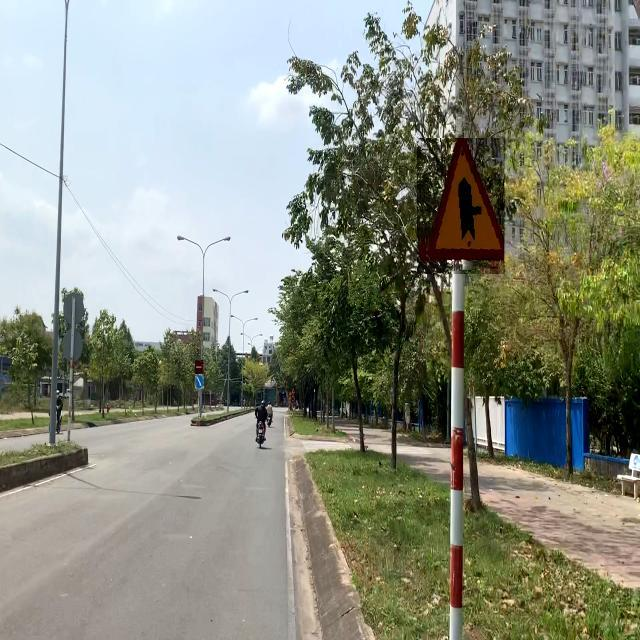P-102: (196, 360, 204, 374)
P-127: (291, 396, 296, 402)
R-302a: (195, 374, 204, 389)
W-207b: (418, 138, 506, 274), (291, 387, 296, 394)
